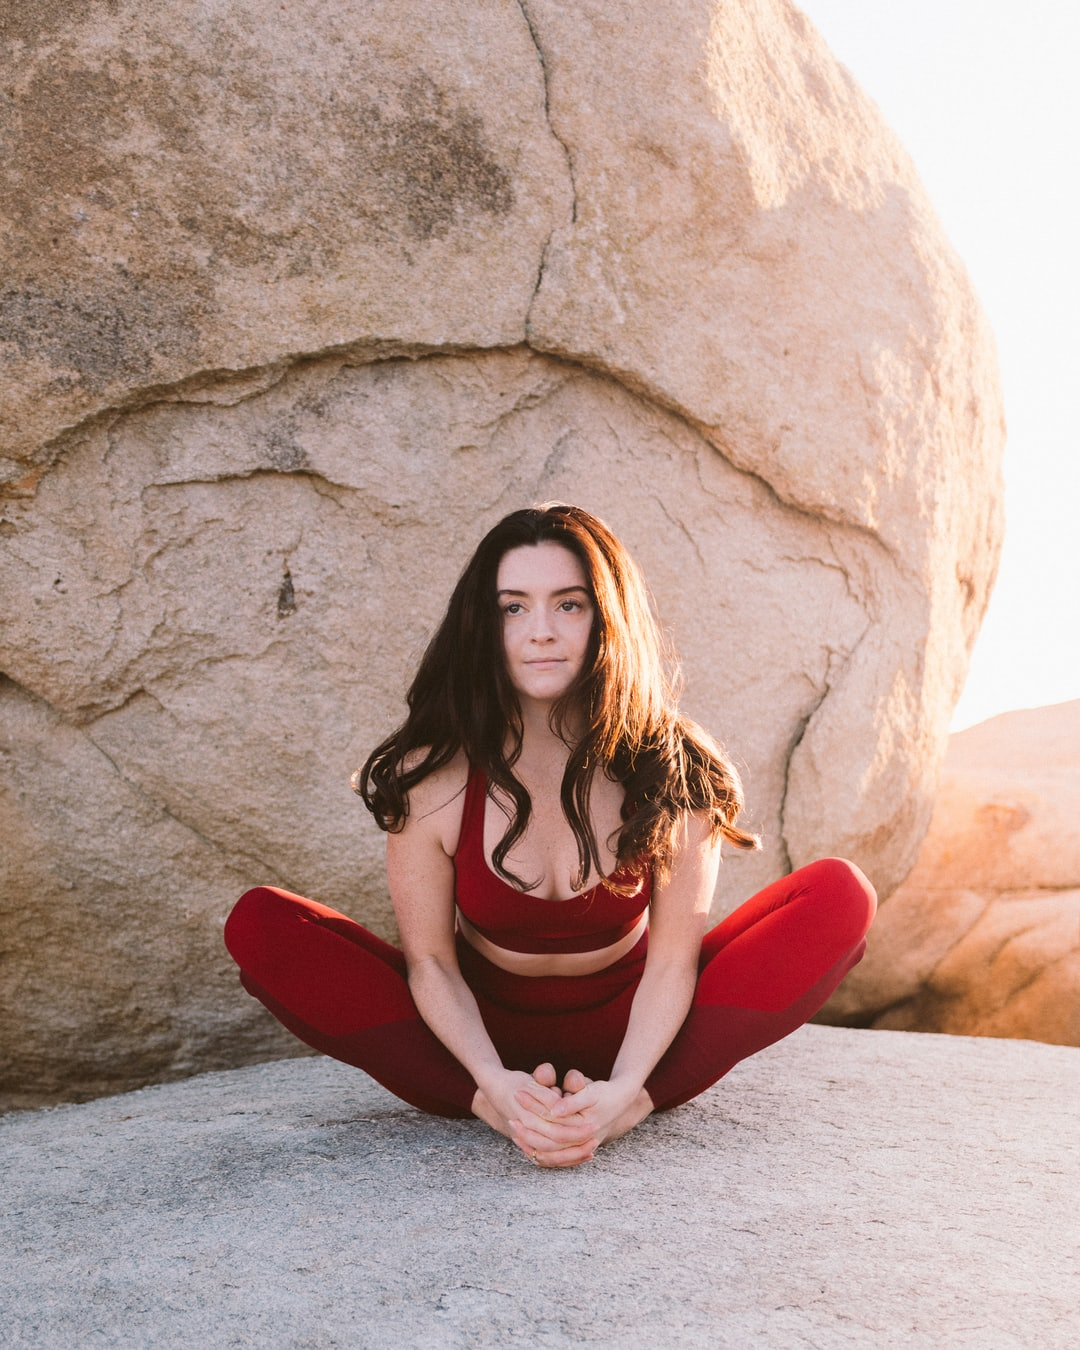person: (223, 498, 881, 1177)
